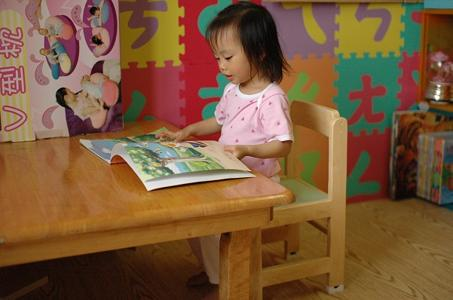person: (155, 2, 294, 300)
